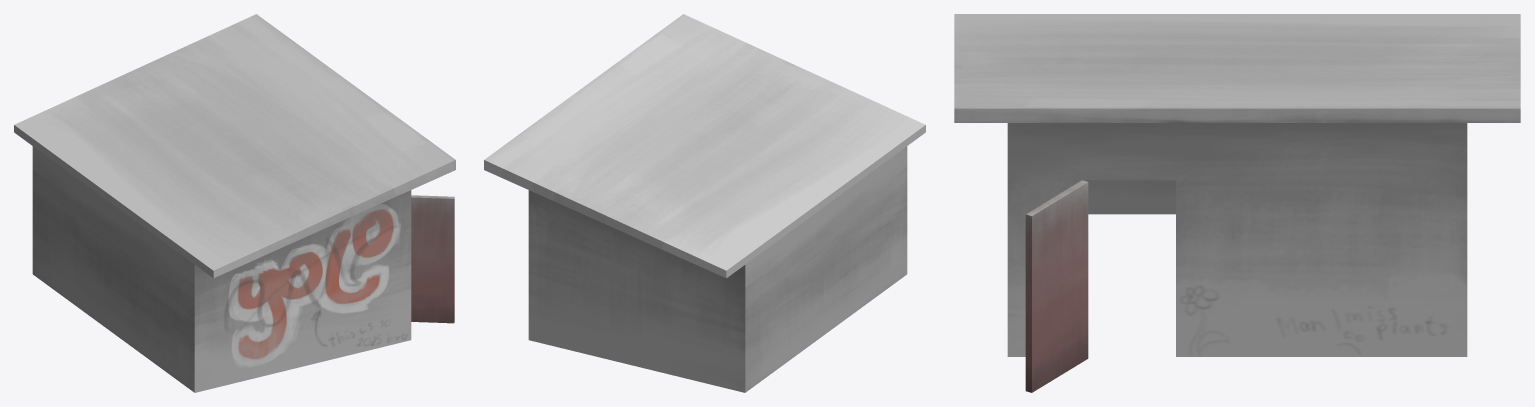
The model's file is shed.fbx.
3 renders of one model, left to right at view 1: azimuth 30°, elevation 25°; view 2: azimuth 150°, elevation 25°; view 3: azimuth 270°, elevation 25°, orthographic. The views are drawn at different scales.
Parts seen in each view (by area): view 1: Cube; view 2: Cube; view 3: Cube.
Part boxes in pixels (x1=…): Cube: x1=14, y1=14, x2=455, y2=392; Cube: x1=484, y1=14, x2=925, y2=392; Cube: x1=954, y1=14, x2=1520, y2=392.
Bounding box in the file's own units: 310 × 207 × 399.
Materials: 1 (1 with a texture image).
